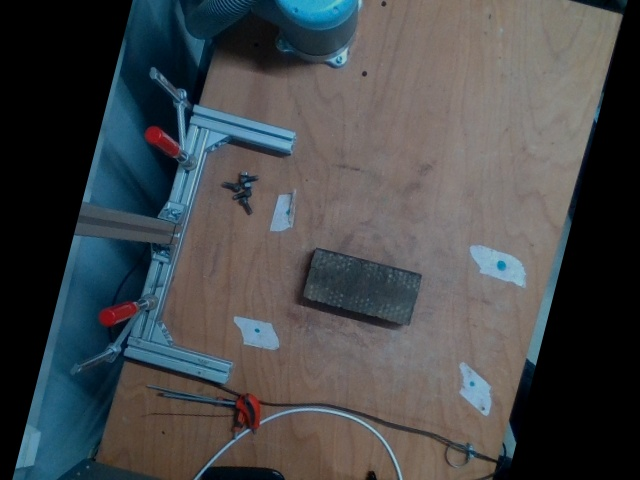brick: (304, 249, 423, 325)
